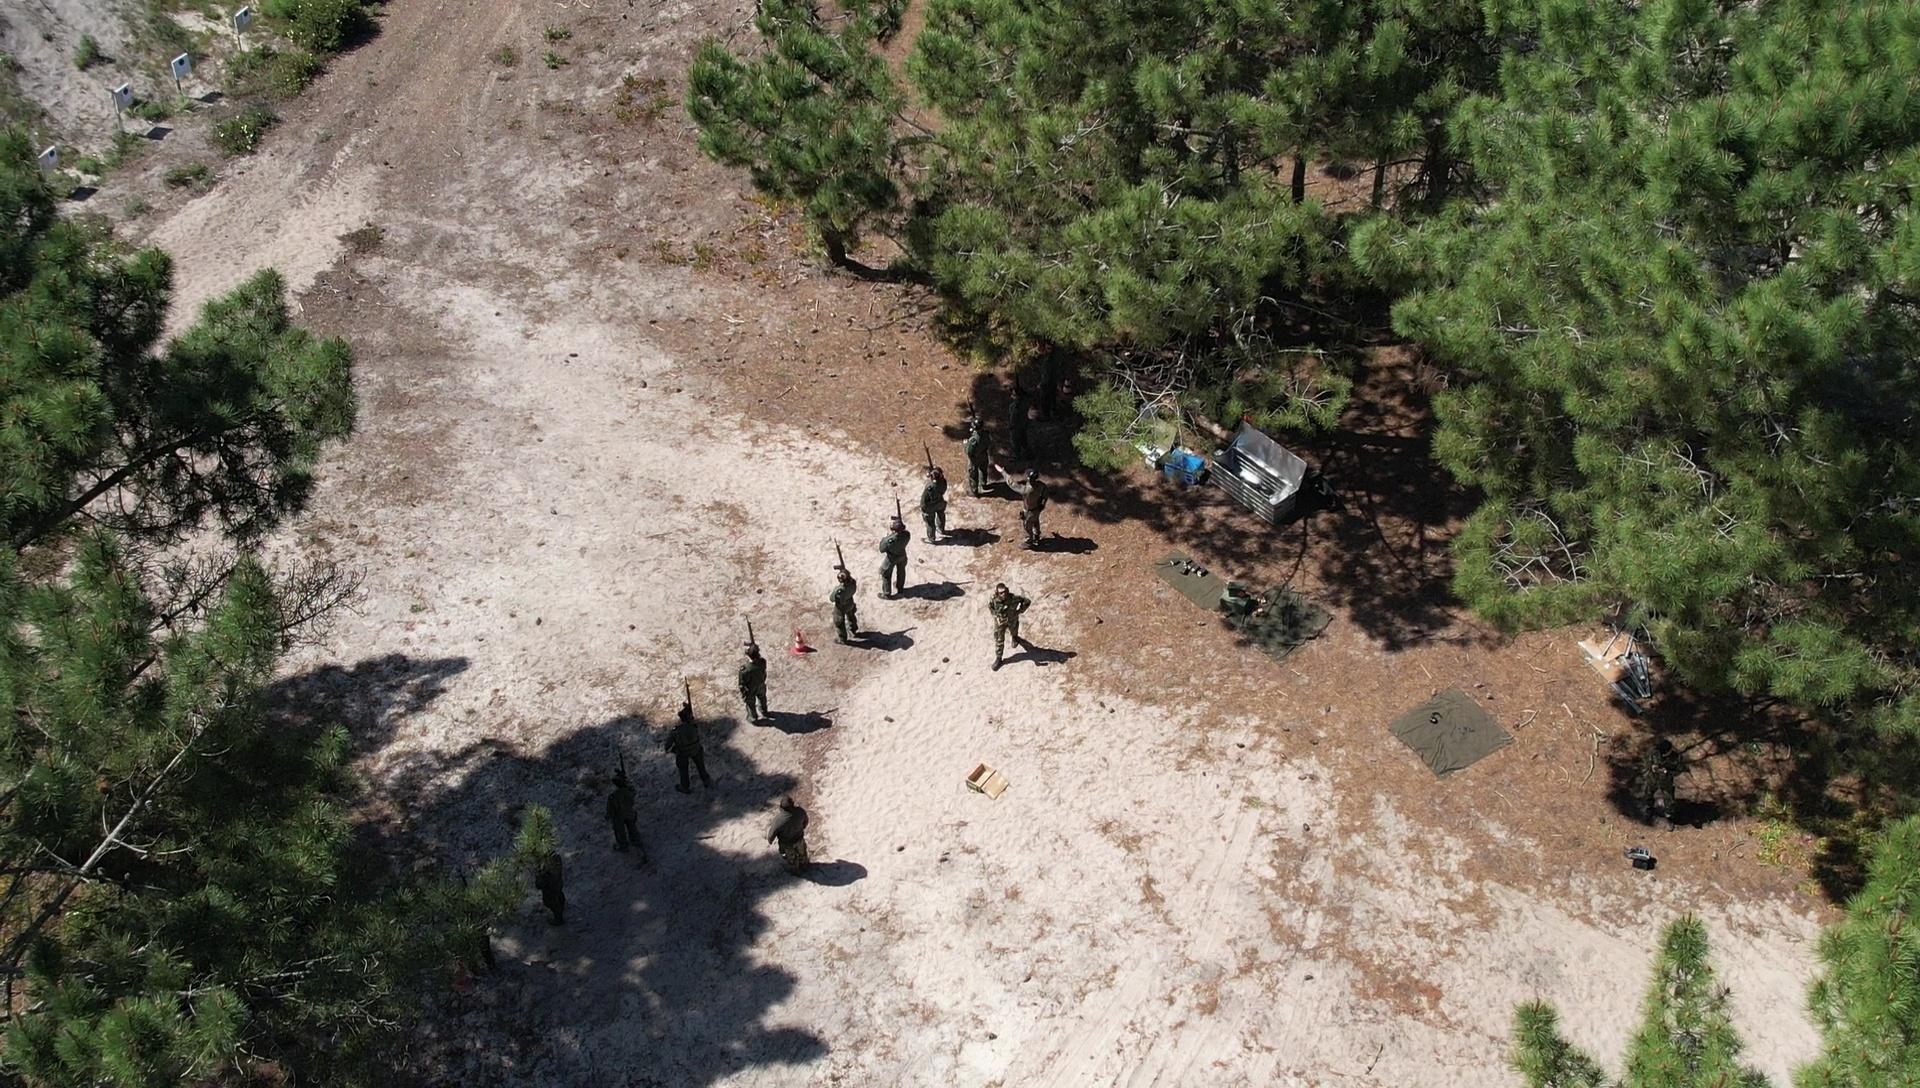Soldier: (665, 673, 713, 804), (1631, 731, 1687, 844), (595, 745, 644, 872), (982, 576, 1040, 679), (731, 617, 775, 731), (1000, 460, 1051, 555), (521, 841, 574, 927), (824, 539, 864, 651), (876, 489, 913, 603), (955, 394, 993, 499), (919, 444, 951, 546), (1004, 369, 1035, 467)
